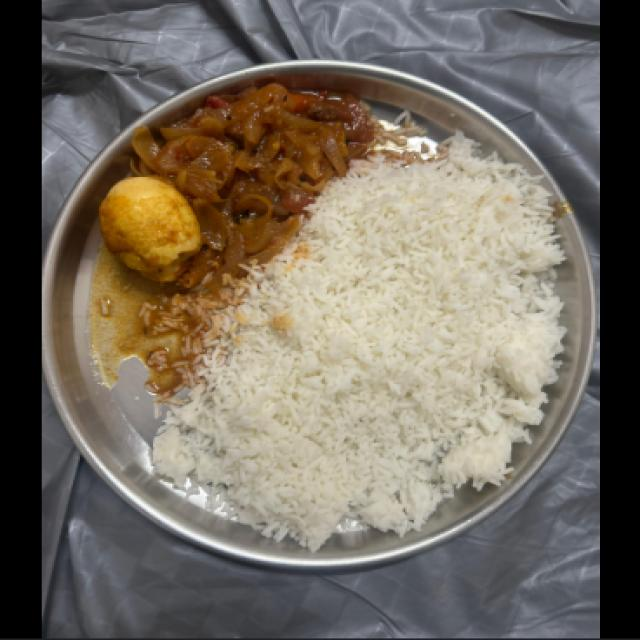rice: (154, 133, 563, 549)
